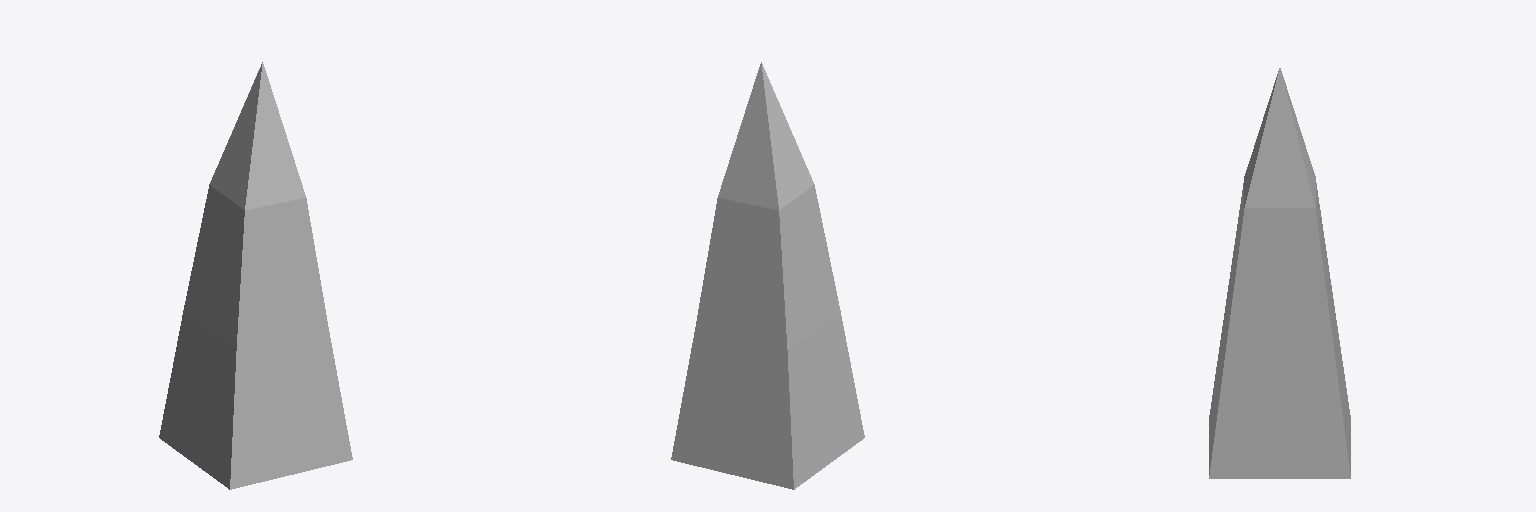
Rendered from skeletal_000039.obj.
The picture shows the model from 3 angles: view 1: azimuth 30°, elevation 25°; view 2: azimuth 150°, elevation 25°; view 3: azimuth 270°, elevation 25°; orthographic projection.
Parts seen in each view (by area): view 1: Cube; view 2: Cube; view 3: Cube.
Boxes of the visible parts, box(x1,y1,x2,y2) form: Cube: box(159, 62, 352, 489); Cube: box(671, 62, 864, 489); Cube: box(1209, 68, 1350, 478).
Bounding box in the file's own units: 2 × 6 × 2.